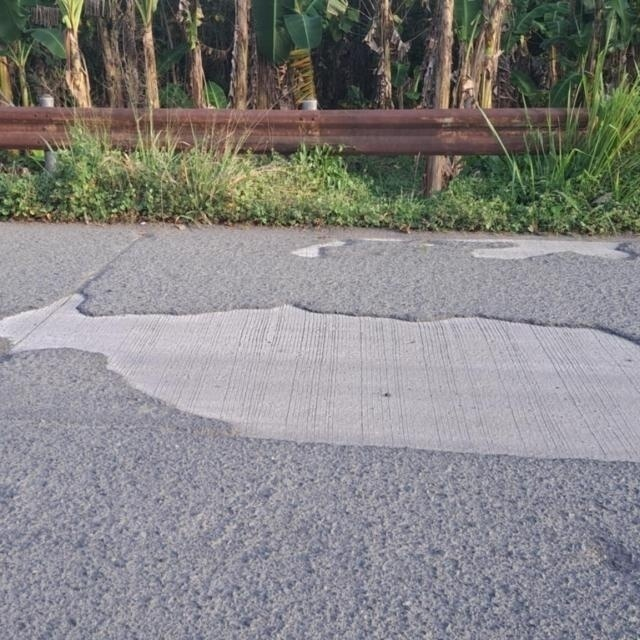pothole: (19, 264, 640, 479)
